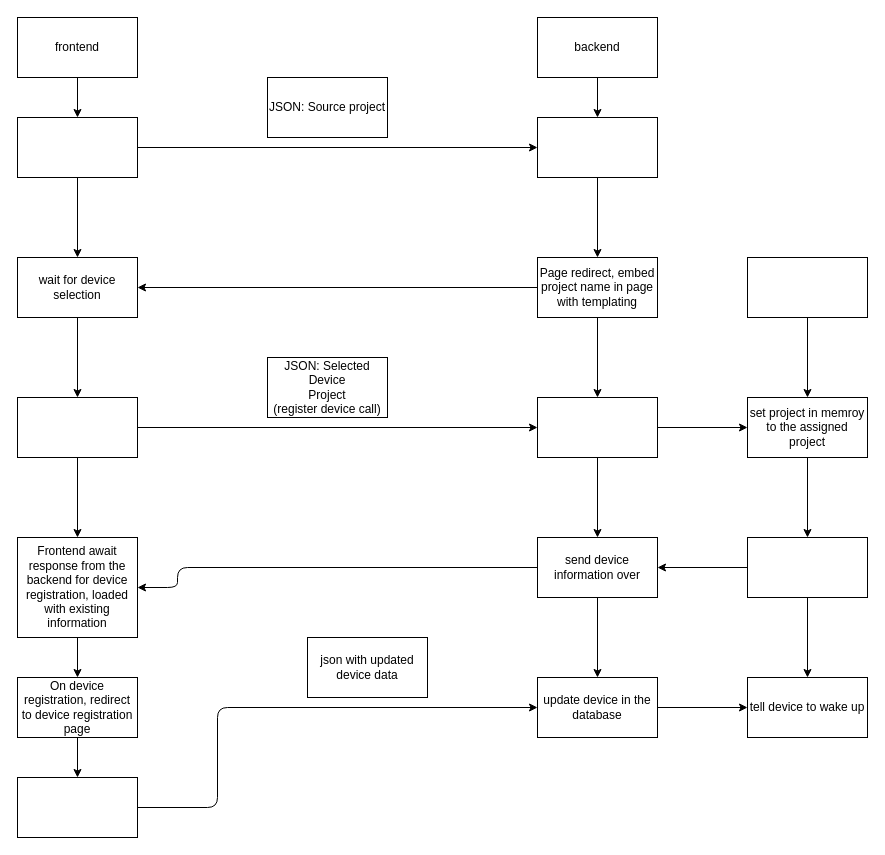
Image size: 885x855. Some labels were removed from this diagram. The shapes that lost their labels are listed below. From the top down, each one's centre as x and y in pixels, then its label:
the point at 77,147: request to add a device
the point at 597,147: receive json
the point at 807,287: Device
the point at 77,427: select device
the point at 597,427: send registration
the point at 807,567: respond with saved data
the point at 77,807: On "update" button click, redirect back to the project page
